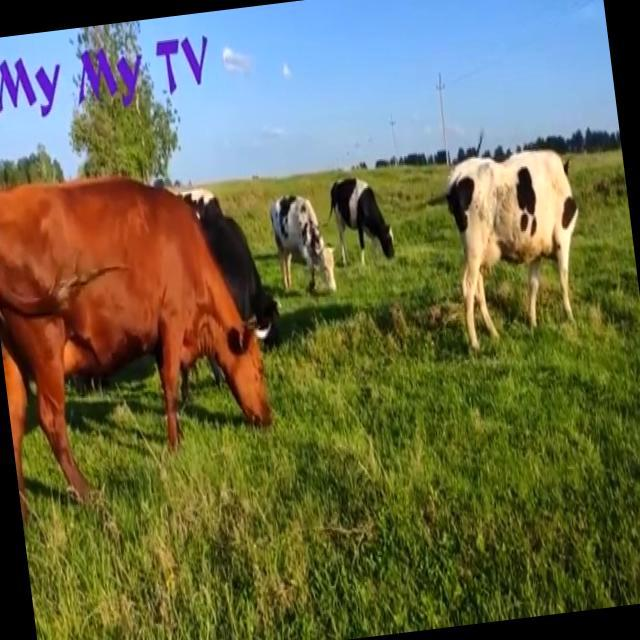COW: (0, 177, 277, 519), (446, 151, 578, 347), (270, 198, 335, 290), (329, 177, 392, 260)
